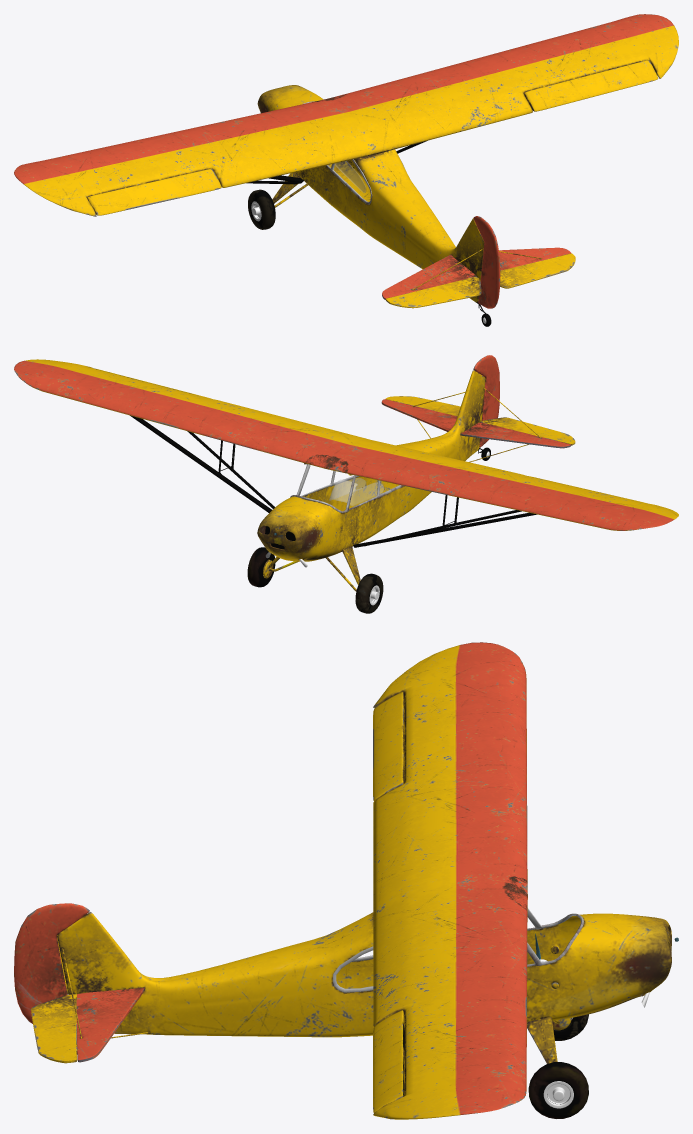
Rendered from airplane3.glb.
3 renders of one model, top to bottom at view 1: azimuth 30°, elevation 25°; view 2: azimuth 150°, elevation 25°; view 3: azimuth 270°, elevation 25°, orthographic. The views are drawn at different scales.
Visible parts, largest first — view 1: body_2; view 2: body_2, glass_1; view 3: body_2.
Boxes of the visible parts, x1,y1,x2,y2 form: body_2: (14,14,678,326); body_2: (14,355,678,613); glass_1: (329,478,383,505); body_2: (14,642,678,1119).
Size of the model in its own units: 8.1 by 1.63 by 4.84.
Materials: 2 (2 with a texture image).
